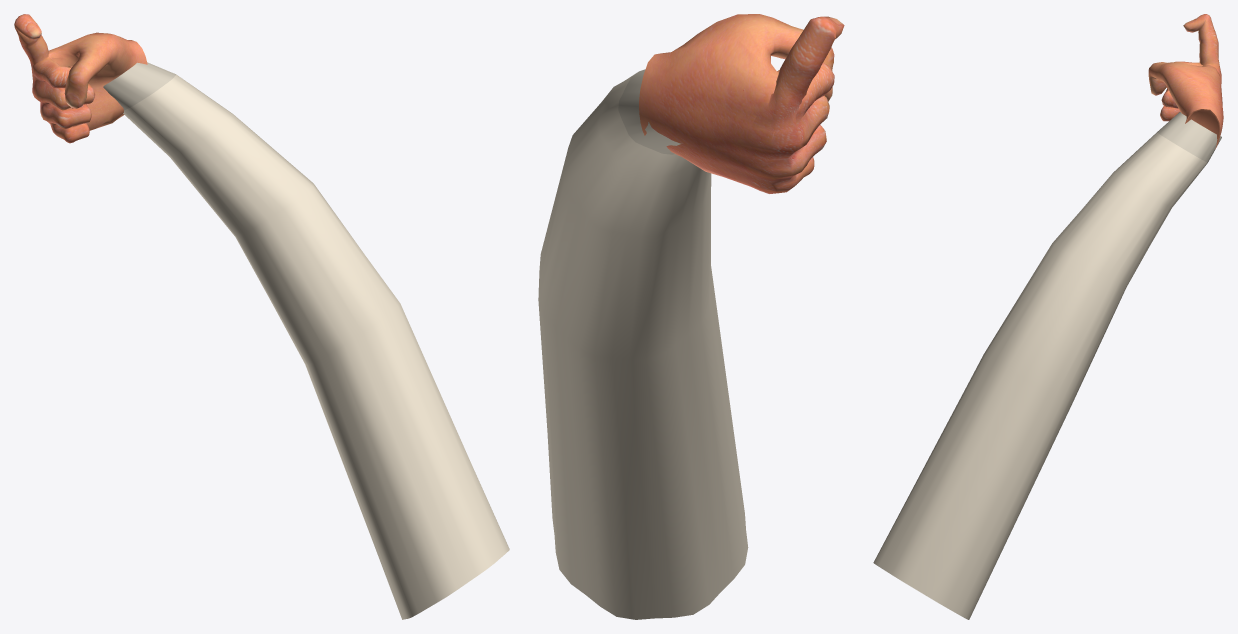
Rendered from first-person-hand.glb.
3 renders of one model, left to right at view 1: azimuth 30°, elevation 25°; view 2: azimuth 150°, elevation 25°; view 3: azimuth 270°, elevation 25°, orthographic. The views are drawn at different scales.
Visible parts, largest first — view 1: Hoodie sleeve, Knife hand, Walking hand; view 2: Hoodie sleeve, Knife hand, Walking hand; view 3: Hoodie sleeve, Knife hand.
Part boxes in pixels (x1,y1,x2,y2): Hoodie sleeve: (103,62,509,619); Knife hand: (14,14,147,143); Walking hand: (32,35,90,99); Hoodie sleeve: (538,69,748,619); Knife hand: (639,14,844,193); Walking hand: (727,29,834,146); Hoodie sleeve: (873,112,1221,619); Knife hand: (1148,14,1223,148).
Bounding box in the file's own units: 0.3861 × 0.6114 × 0.3958.
Materials: 3 (1 with a texture image).
